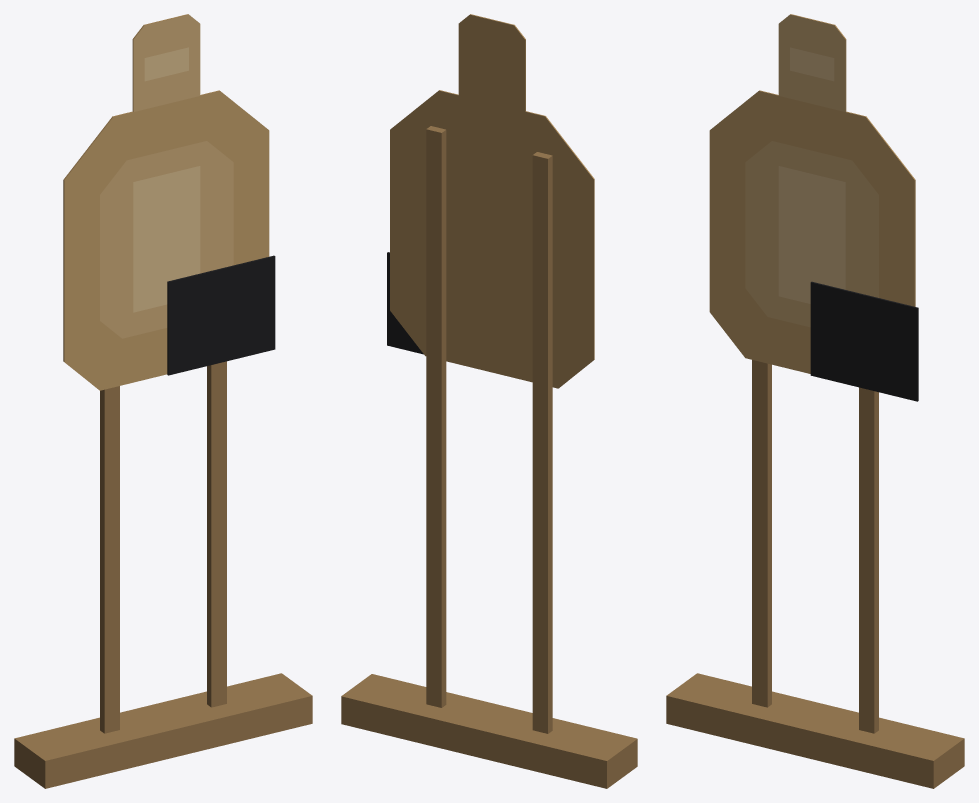
File: ipsc-target.glb
3 renders of one model, left to right at view 1: azimuth 30°, elevation 25°; view 2: azimuth 150°, elevation 25°; view 3: azimuth 330°, elevation 25°, orthographic.
Visible parts, largest first — view 1: stand, zone-d, zone-c, hard-cover, zone-a, board; view 2: board, stand, hard-cover; view 3: stand, zone-d, zone-c, hard-cover, zone-a, board.
Part boxes in pixels (x1,y1,x2,y2): stand: [14, 361, 312, 788]; zone-d: [64, 91, 269, 390]; zone-c: [100, 14, 233, 338]; hard-cover: [167, 255, 275, 375]; zone-a: [133, 47, 200, 312]; board: [63, 14, 219, 361]; board: [390, 14, 594, 388]; stand: [341, 126, 637, 788]; hard-cover: [387, 252, 423, 354]; stand: [666, 360, 964, 788]; zone-d: [709, 91, 914, 373]; zone-c: [745, 14, 878, 327]; hard-cover: [810, 281, 918, 401]; zone-a: [778, 47, 845, 303]; board: [759, 14, 915, 306].
Bounding box in the file's own units: 0.6 × 1.56 × 0.12.
